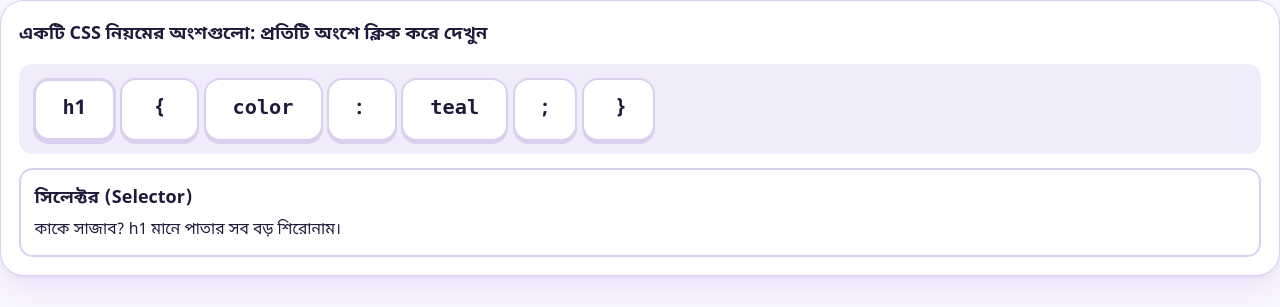
Test: html-anatomy › css mode lists selector/property/value
Click the button "color": x=263, y=109 left=204, top=78, right=322, bottom=140
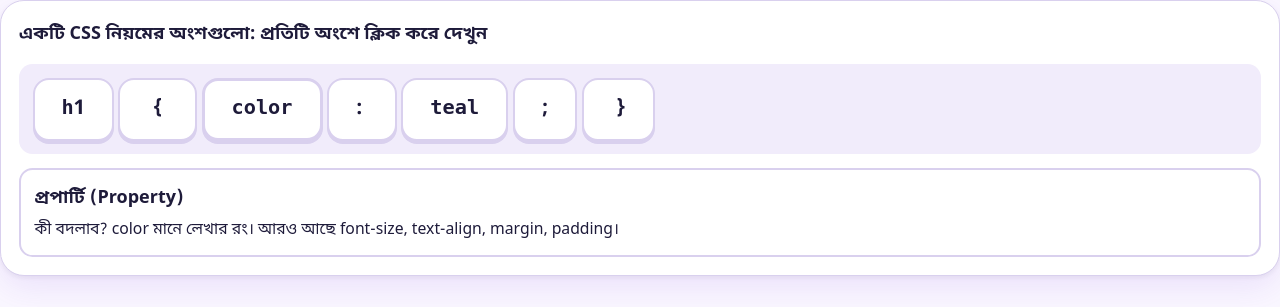
Now the element with test id "html-anatomy-info" shows "প্রপার্টি", box left=34, top=186, right=184, bottom=210
